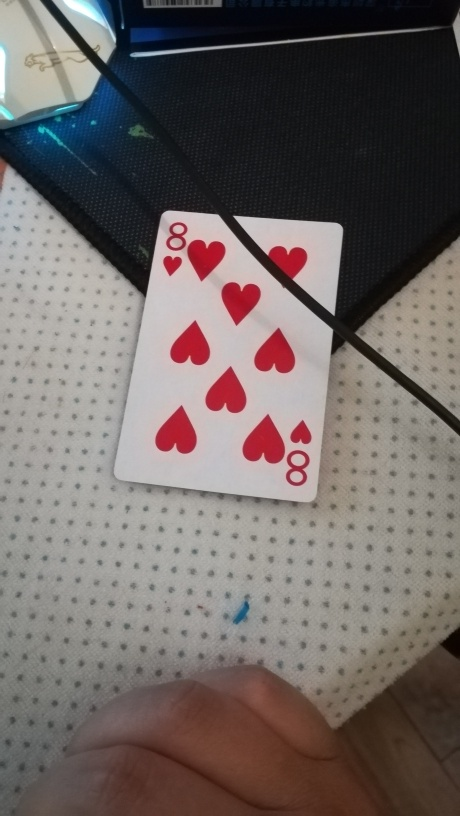hx 8: (114, 208, 342, 504)
